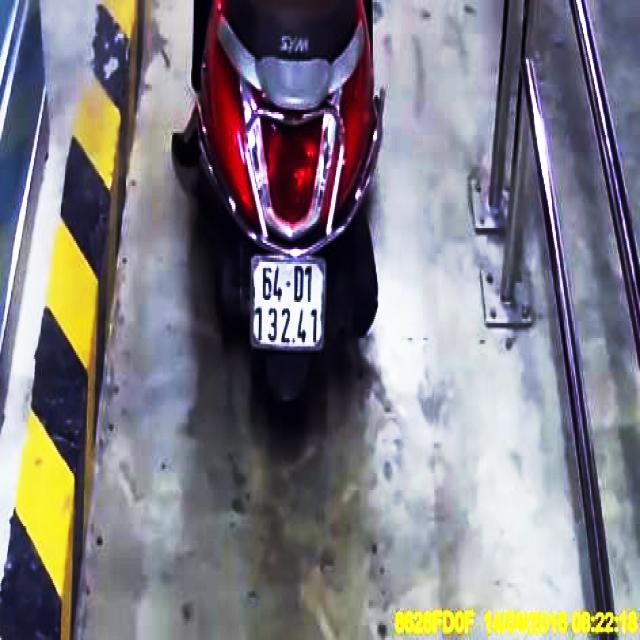license_plate: (253, 262, 326, 347)
